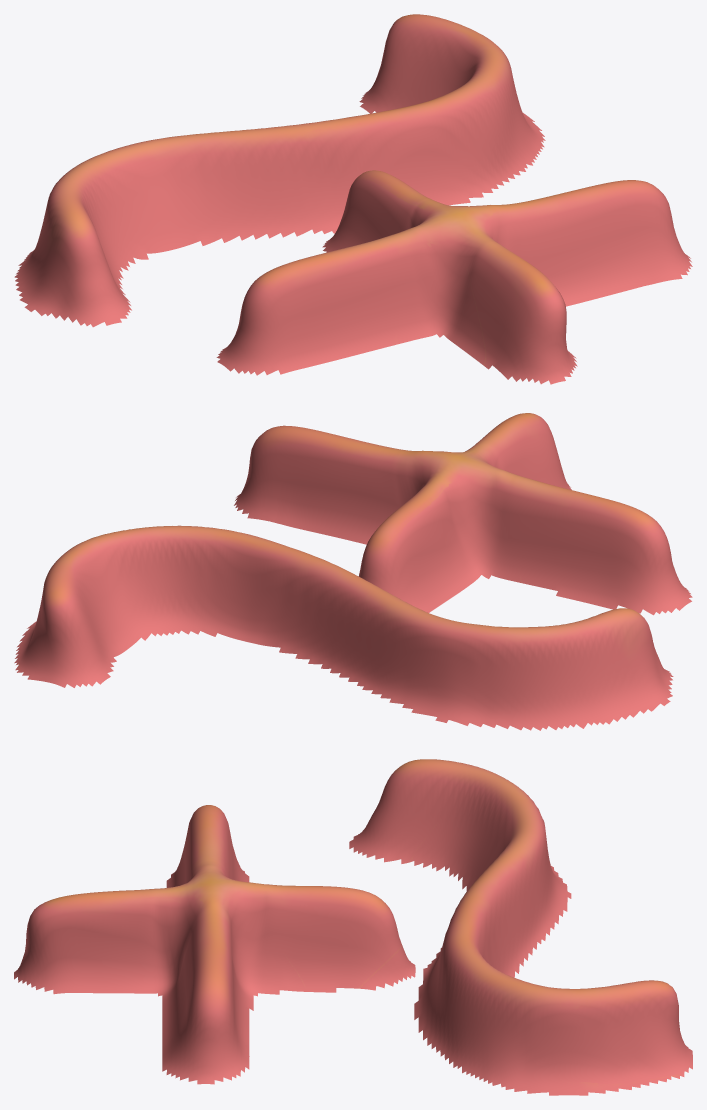
File: cave_gliph_4.fbx
3 views of the same model, one above another, from view 1: azimuth 30°, elevation 25°; view 2: azimuth 150°, elevation 25°; view 3: azimuth 270°, elevation 25° (orthographic). The views are drawn at different scales.
Parts seen in each view (by area): view 1: gliph_4; view 2: gliph_4; view 3: gliph_4.
Part boxes in pixels (bbox=[...]): gliph_4: bbox=[14, 14, 692, 384]; gliph_4: bbox=[14, 413, 692, 730]; gliph_4: bbox=[14, 759, 692, 1095].
Size of the model in its own units: 149 by 24.1 by 156.
Materials: 1 (1 with a texture image).
